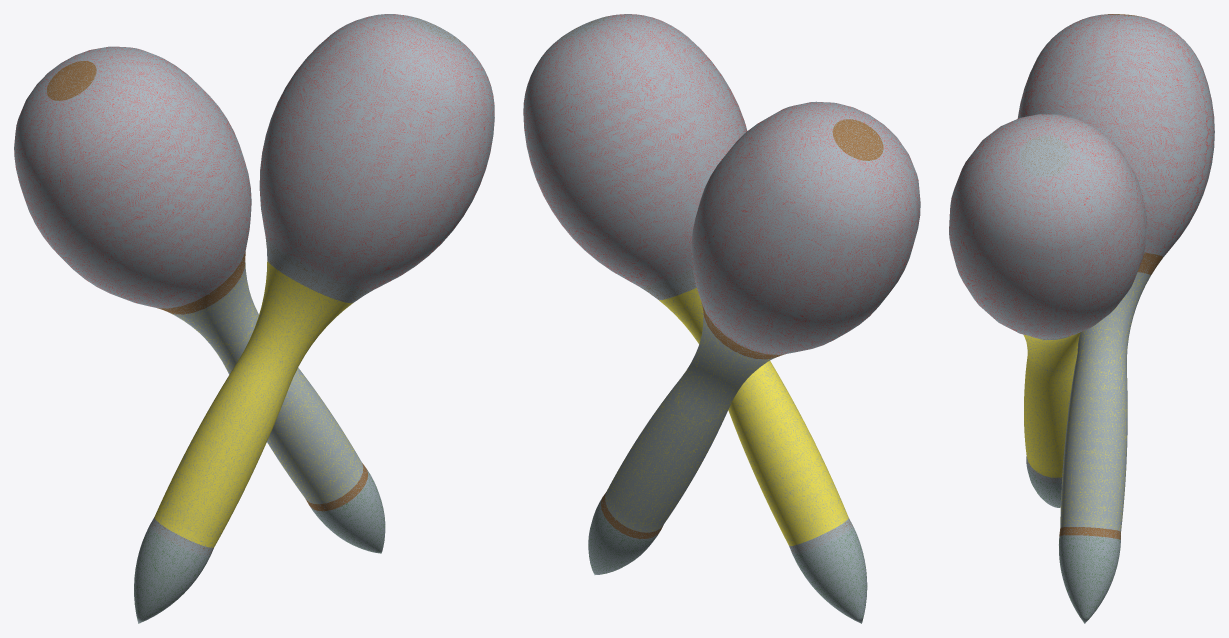
The model's file is instr12.fbx.
3 views of the same model, side by side, from view 1: azimuth 30°, elevation 25°; view 2: azimuth 150°, elevation 25°; view 3: azimuth 270°, elevation 25° (orthographic). The views are drawn at different scales.
Parts seen in each view (by area): view 1: Maracas1; view 2: Maracas1; view 3: Maracas1.
Boxes of the visible parts, x1=… form: Maracas1: x1=14, y1=14, x2=494, y2=623; Maracas1: x1=523, y1=14, x2=920, y2=623; Maracas1: x1=949, y1=14, x2=1214, y2=623.
Size of the model in its own units: 37.07 by 46.7 by 22.64.
